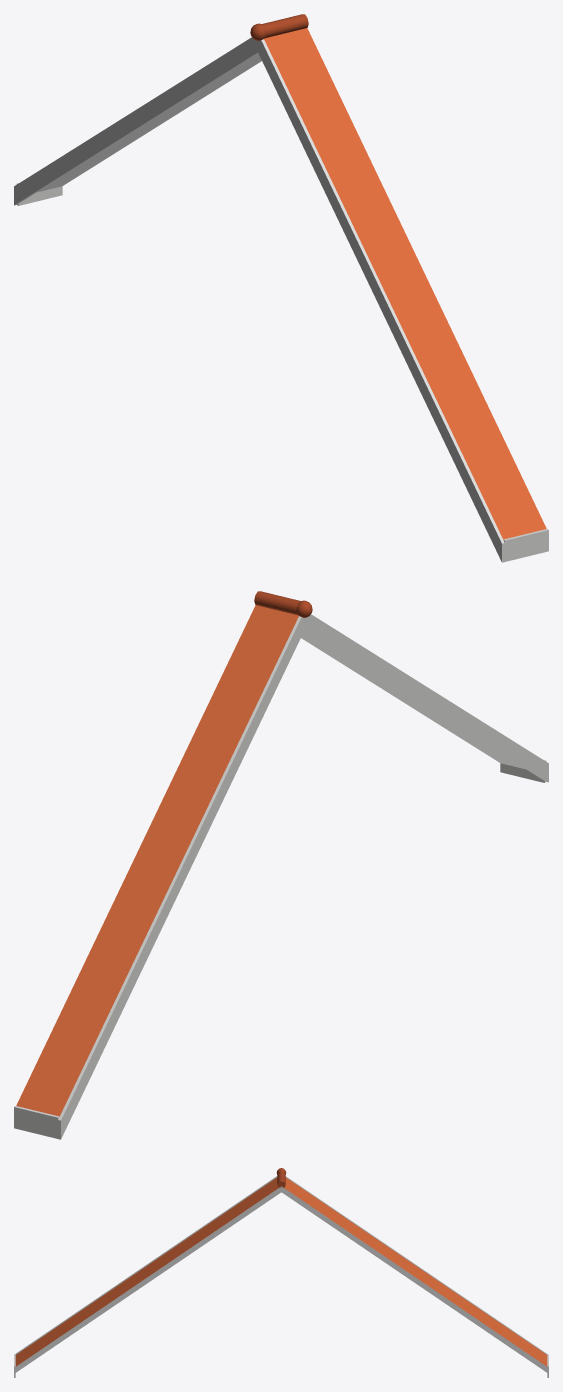
File: telhado_empena_v8_i75.glb
The picture shows the model from 3 angles, top to bottom: view 1: azimuth 30°, elevation 25°; view 2: azimuth 150°, elevation 25°; view 3: azimuth 270°, elevation 25°; orthographic projection. The views are drawn at different scales.
Parts seen in each view (by area): view 1: telhado_empena_v8_i75; view 2: telhado_empena_v8_i75; view 3: telhado_empena_v8_i75.
Part boxes in pixels (x1,y1,x2,y2): telhado_empena_v8_i75: (14, 14, 548, 562); telhado_empena_v8_i75: (14, 591, 548, 1139); telhado_empena_v8_i75: (14, 1168, 548, 1377).
Size of the model in its own units: 0.57 by 3.66 by 9.
